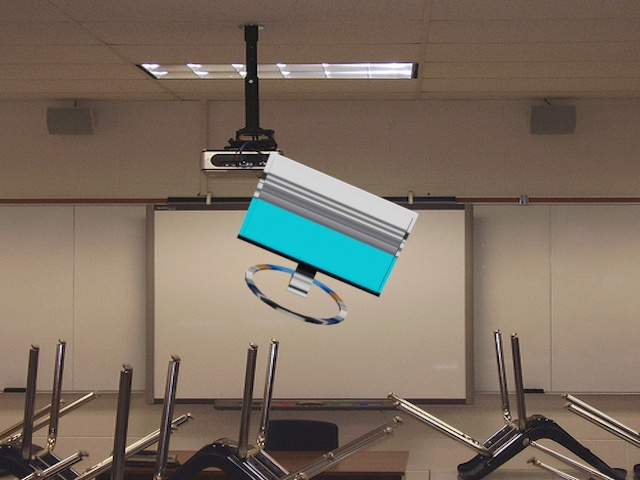monitor: (224, 145, 424, 337)
